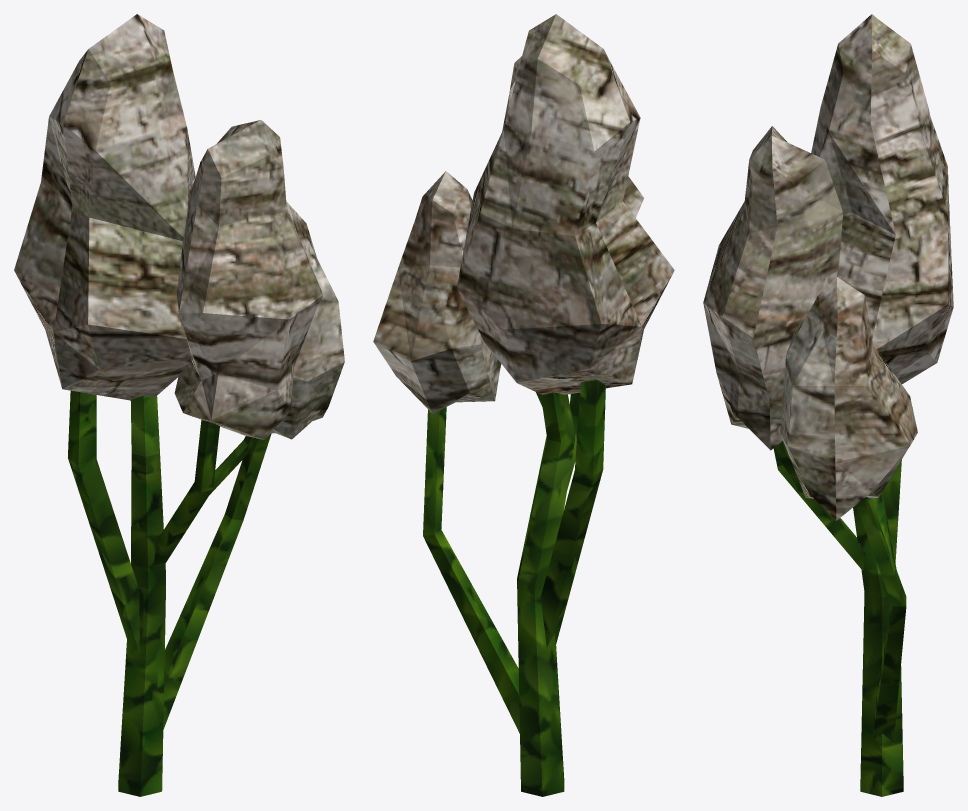
File: tree9.obj
The picture shows the model from 3 angles, left to right: view 1: azimuth 30°, elevation 25°; view 2: azimuth 150°, elevation 25°; view 3: azimuth 270°, elevation 25°; orthographic projection.
Parts seen in each view (by area): view 1: Tree_temp_climate_011_Mesh.010; view 2: Tree_temp_climate_011_Mesh.010; view 3: Tree_temp_climate_011_Mesh.010.
Part boxes in pixels (bbox=[...]): Tree_temp_climate_011_Mesh.010: bbox=[14, 14, 344, 796]; Tree_temp_climate_011_Mesh.010: bbox=[373, 14, 674, 796]; Tree_temp_climate_011_Mesh.010: bbox=[703, 14, 953, 796].
Size of the model in its own units: 1.76 by 5.09 by 1.5.
1 material, 1 textured.
